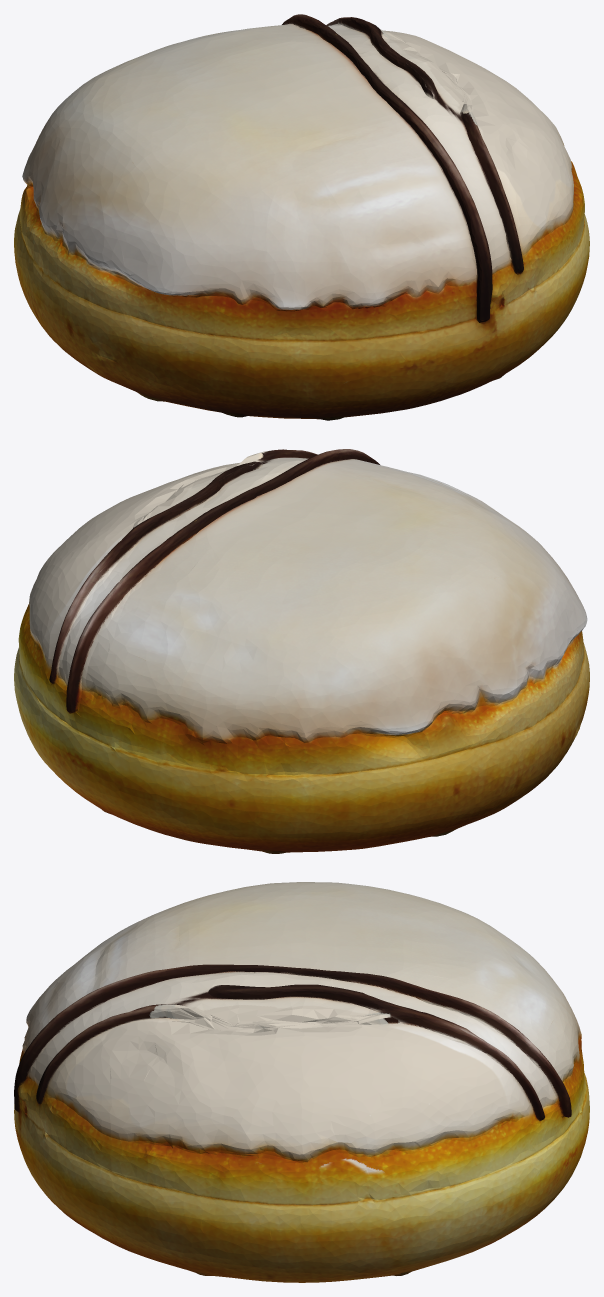
Rendered from custard.glb.
3 renders of one model, top to bottom at view 1: azimuth 30°, elevation 25°; view 2: azimuth 150°, elevation 25°; view 3: azimuth 270°, elevation 25°, orthographic.
Parts seen in each view (by area): view 1: world; view 2: world; view 3: world.
Boxes of the visible parts, x1=… form: world: x1=14, y1=14, x2=589, y2=420; world: x1=14, y1=449, x2=589, y2=853; world: x1=14, y1=882, x2=589, y2=1282.
Bounding box in the file's own units: 0.9992 × 0.5152 × 0.9993.
1 material, 1 textured.
